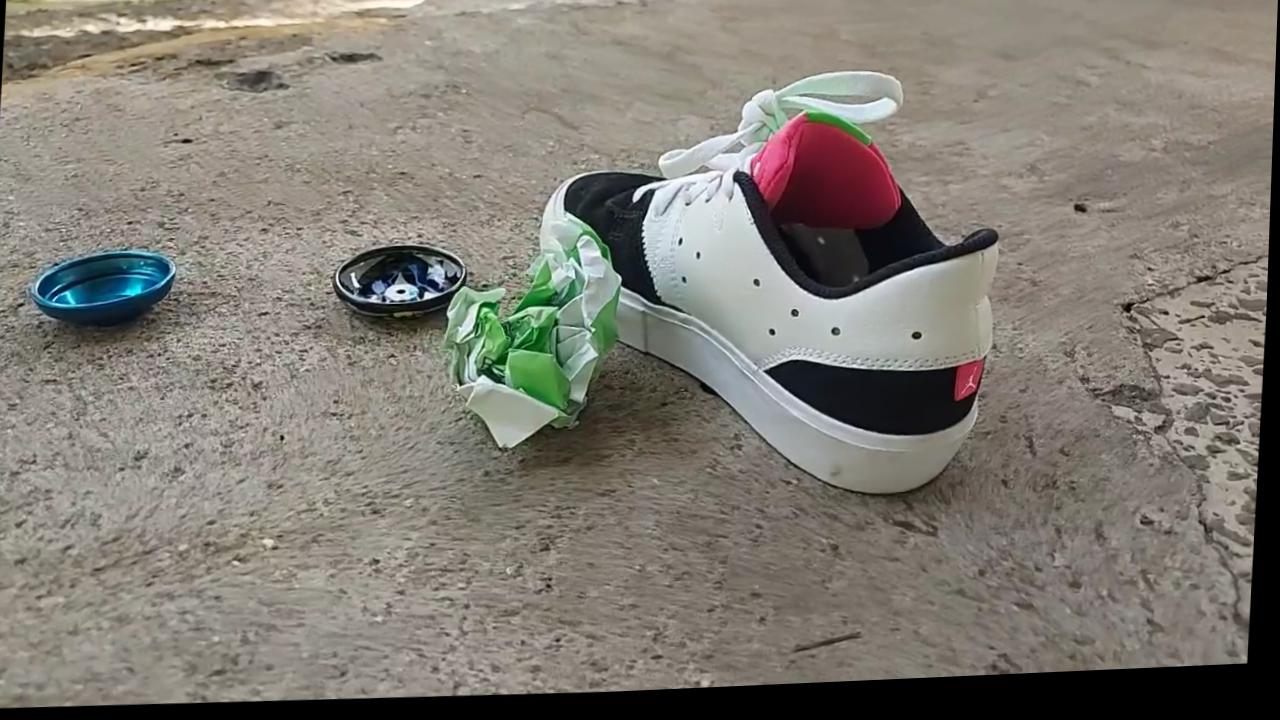paper: (430, 205, 639, 467)
